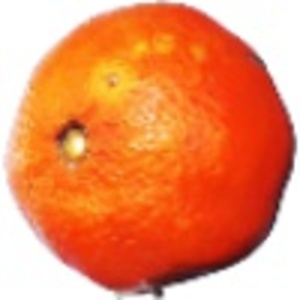tangerina: (3, 1, 297, 300)
